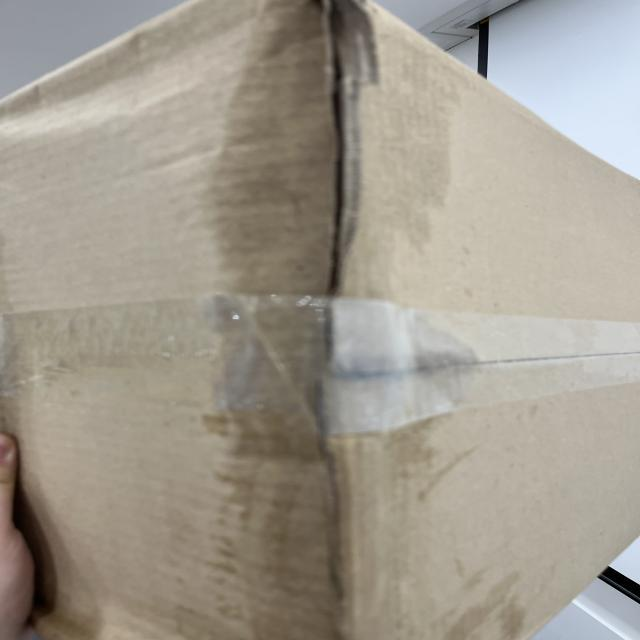wet: (190, 15, 481, 640)
